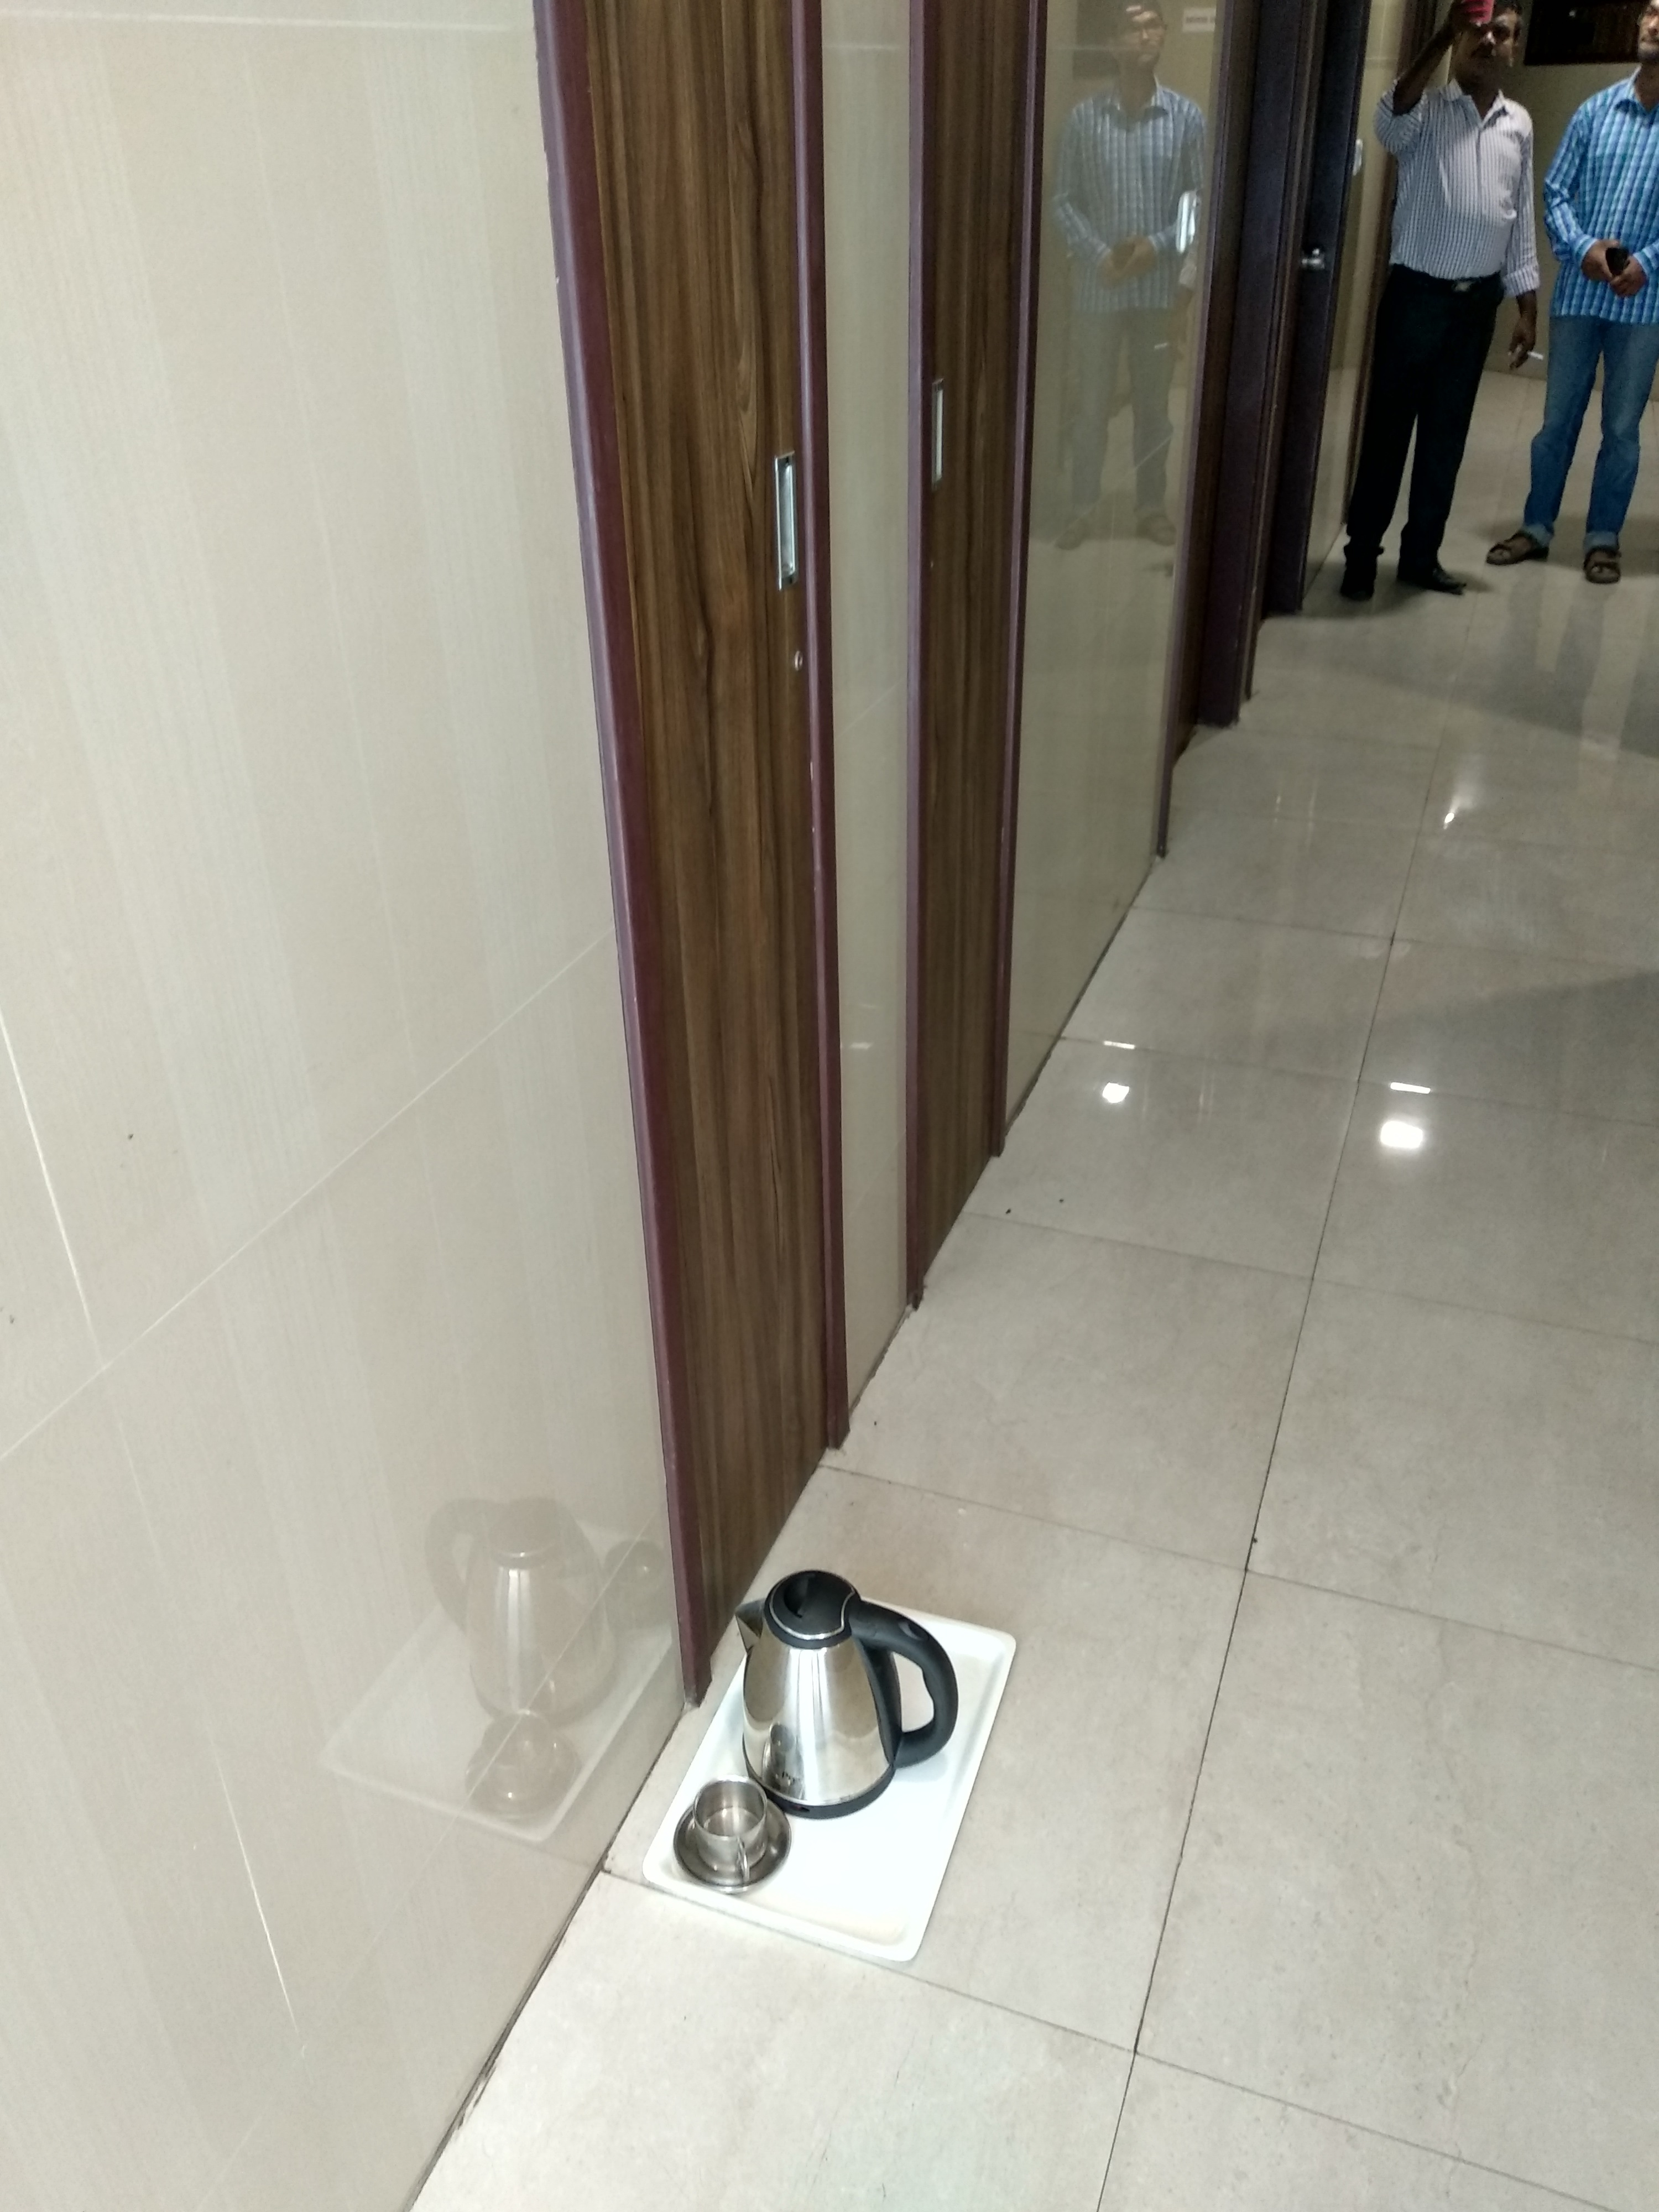CUP: (674, 1777, 779, 1886)
JUG: (734, 1566, 953, 1815)
